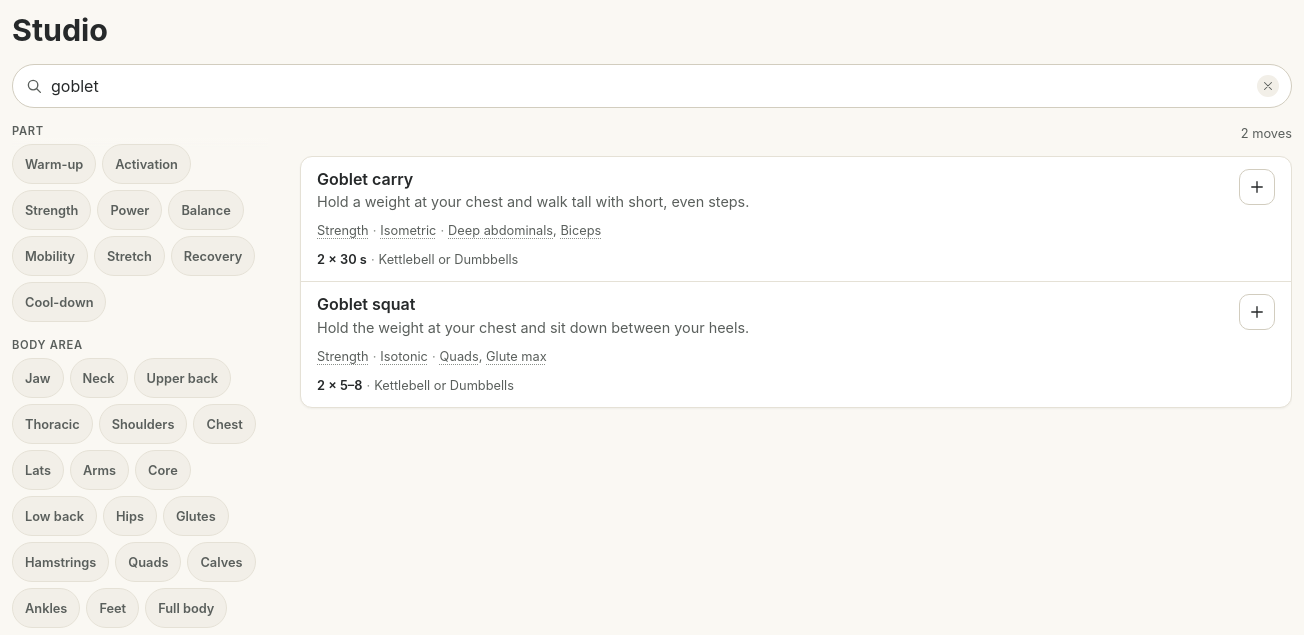
from md: the pane beside the list › opens beside the list, not over it; focus moves to its name
Click the link with class "stu-move-open" showing "Goblet squat" at (366, 304), box [317, 294, 416, 314]
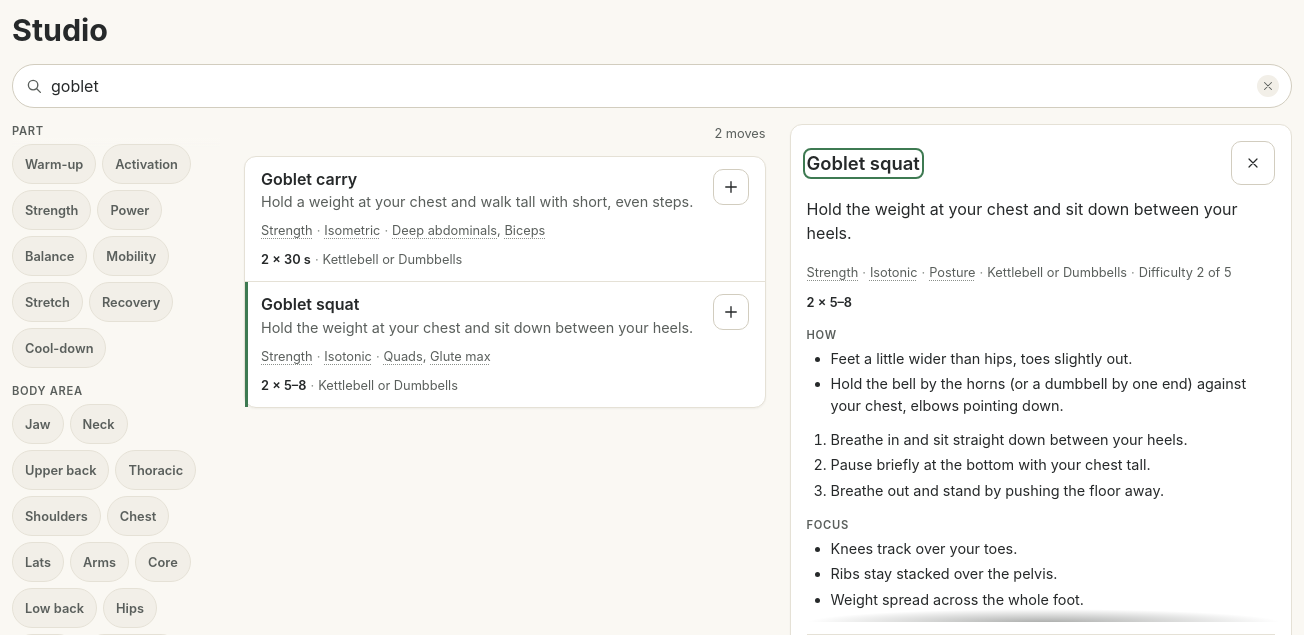
Result: the 1st heading "Goblet squat" is shown at [807, 152, 920, 175]
